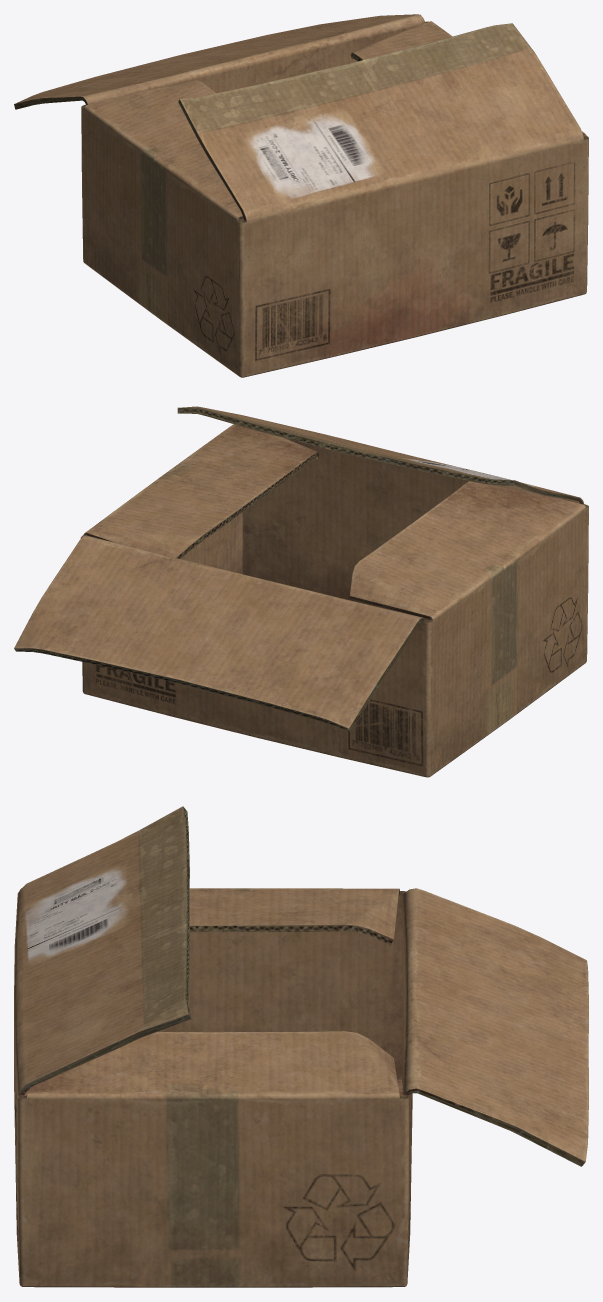
The model's file is cardboard_box.glb.
The picture shows the model from 3 angles, top to bottom: view 1: azimuth 30°, elevation 25°; view 2: azimuth 150°, elevation 25°; view 3: azimuth 270°, elevation 25°; orthographic projection. The views are drawn at different scales.
Parts seen in each view (by area): view 1: Box.000; view 2: Box.000; view 3: Box.000.
Boxes of the visible parts, x1,y1,x2,y2 form: Box.000: (14,14,588,377); Box.000: (14,406,588,777); Box.000: (14,806,588,1287).
Bounding box in the file's own units: 1.72 × 1.08 × 2.
1 material, 1 textured.
